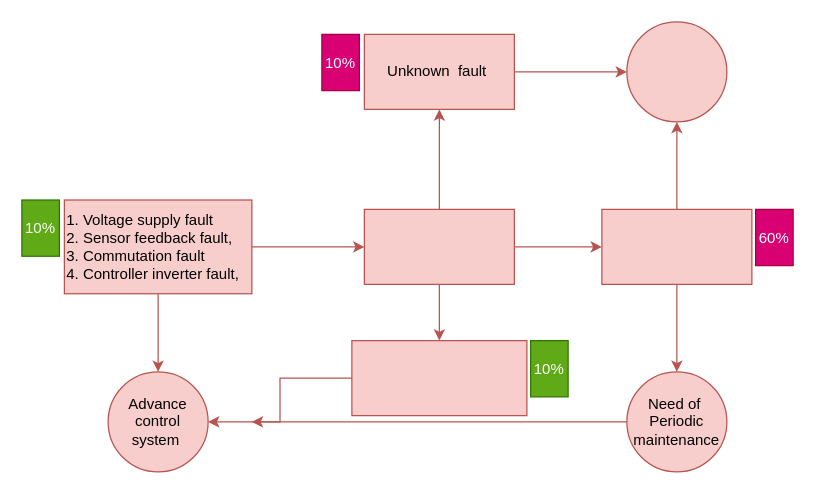
This 815x494 diagram has some shape labels left out. The box of each missing label's shape, as (x1, y1, x2, y2) in pixels:
5. Phase to phase fault, 6. insulation degradation: (351, 339, 527, 416)
7. Bearing Fault, 8. Overload fault, 9. alignment 10. Overcurrent: (601, 208, 752, 284)
Motor Fault: (363, 208, 514, 284)
Require Continous Recording: (626, 21, 727, 122)
